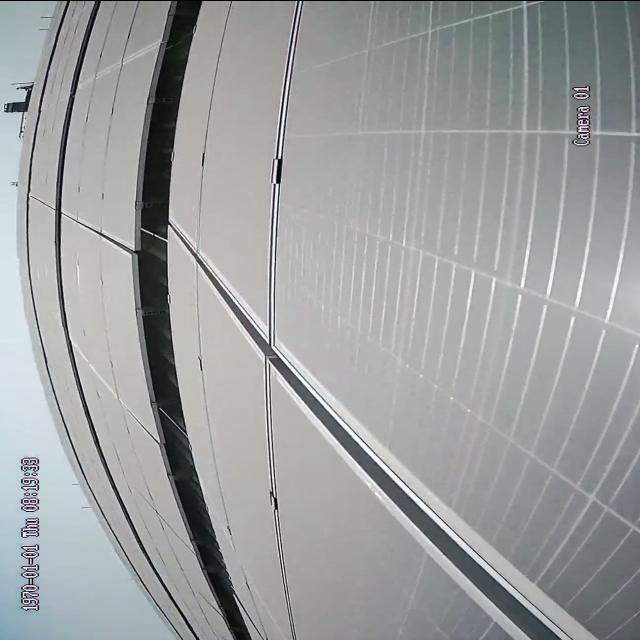interior panel: (176, 223, 597, 637)
outher panel: (137, 0, 258, 637)
